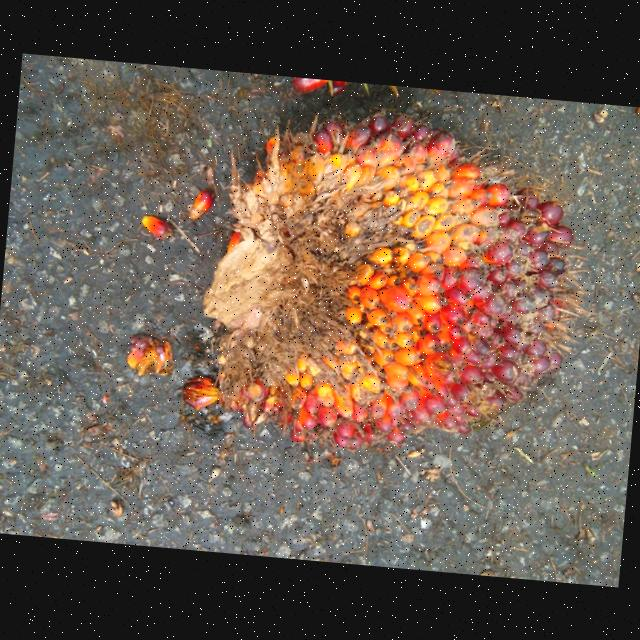Ripe: (205, 106, 579, 449)
